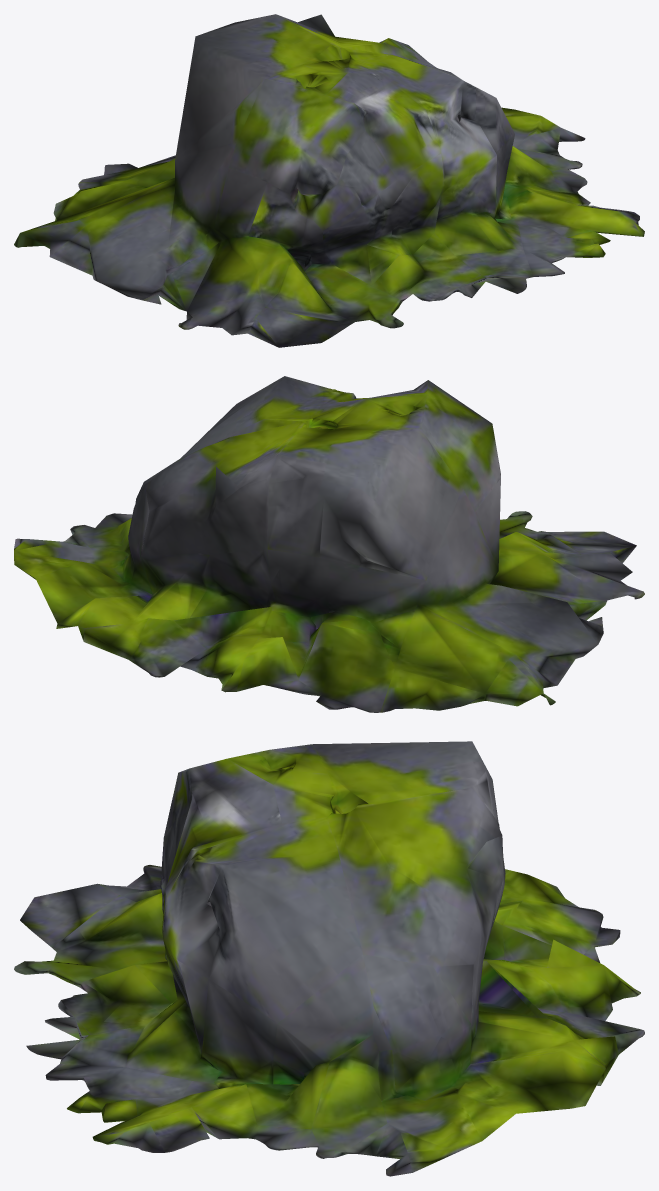
The model's file is rock_mossy.glb.
3 renders of one model, top to bottom at view 1: azimuth 30°, elevation 25°; view 2: azimuth 150°, elevation 25°; view 3: azimuth 270°, elevation 25°, orthographic. The views are drawn at different scales.
Size of the model in its own units: 1.89 by 0.5703 by 1.5.
1 material, 1 textured.
